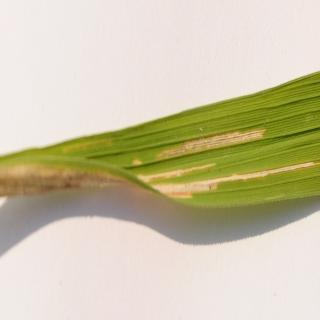Hawar-Daun: (130, 155, 320, 204), (0, 158, 126, 199), (154, 122, 268, 160)
